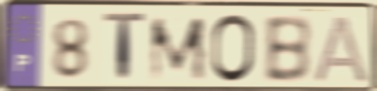8: (49, 17, 91, 81)
A: (311, 14, 372, 85)
B: (262, 13, 313, 85)
M: (148, 15, 210, 84)
O: (209, 12, 257, 86)
T: (101, 10, 148, 87)
